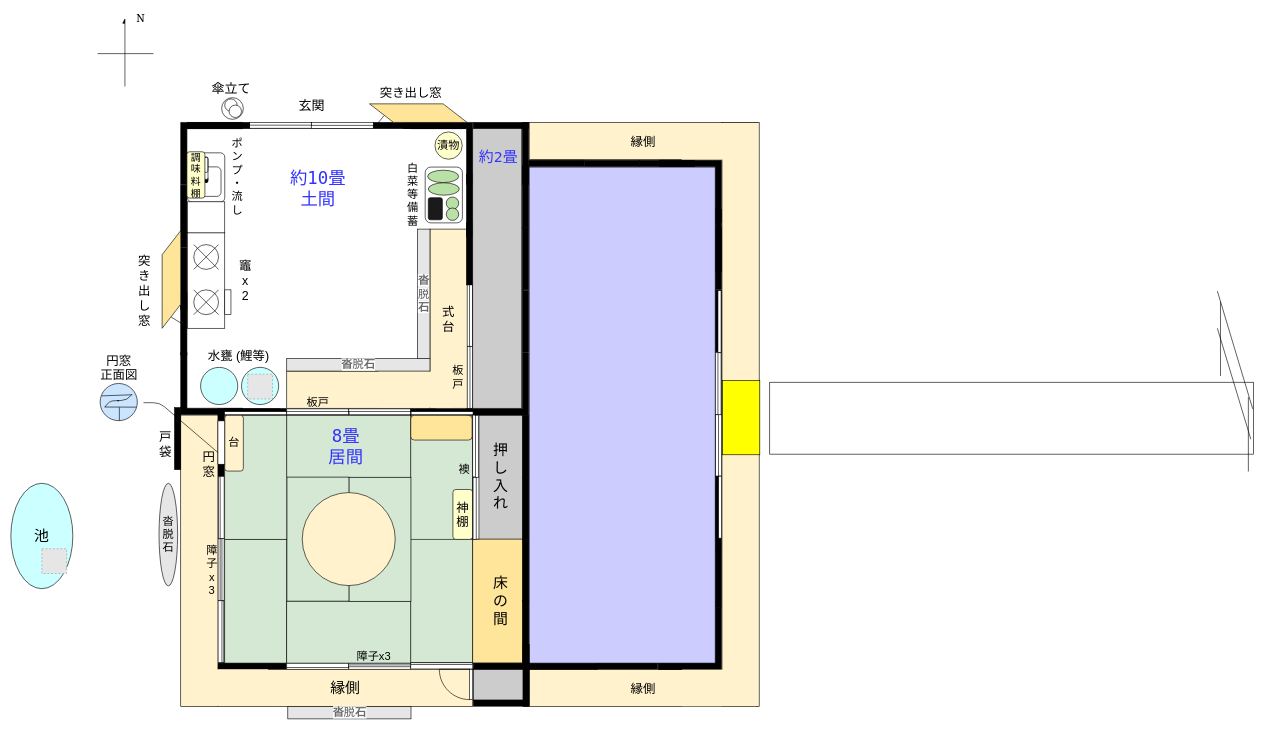
Image size: 1264x730. Some labels were removed from this diagram. Grey dashed boxes stand in for pictures. The box of each missing label's shape, as (x1, y1, x2, y2) in pixels:
12畳 拝殿: (529, 166, 715, 663)
ちゃぶ台: (302, 492, 395, 586)
タイル貼 作業台: (187, 201, 225, 233)
タンス: (410, 415, 472, 440)
参道: (769, 382, 1253, 454)
式台: (286, 370, 436, 408)
納戸？: (473, 668, 529, 700)
謎 の 空 間 ・ 甕 等 の 物 置 ？: (472, 128, 522, 408)
賽 銭 箱 !!: (722, 380, 760, 455)
